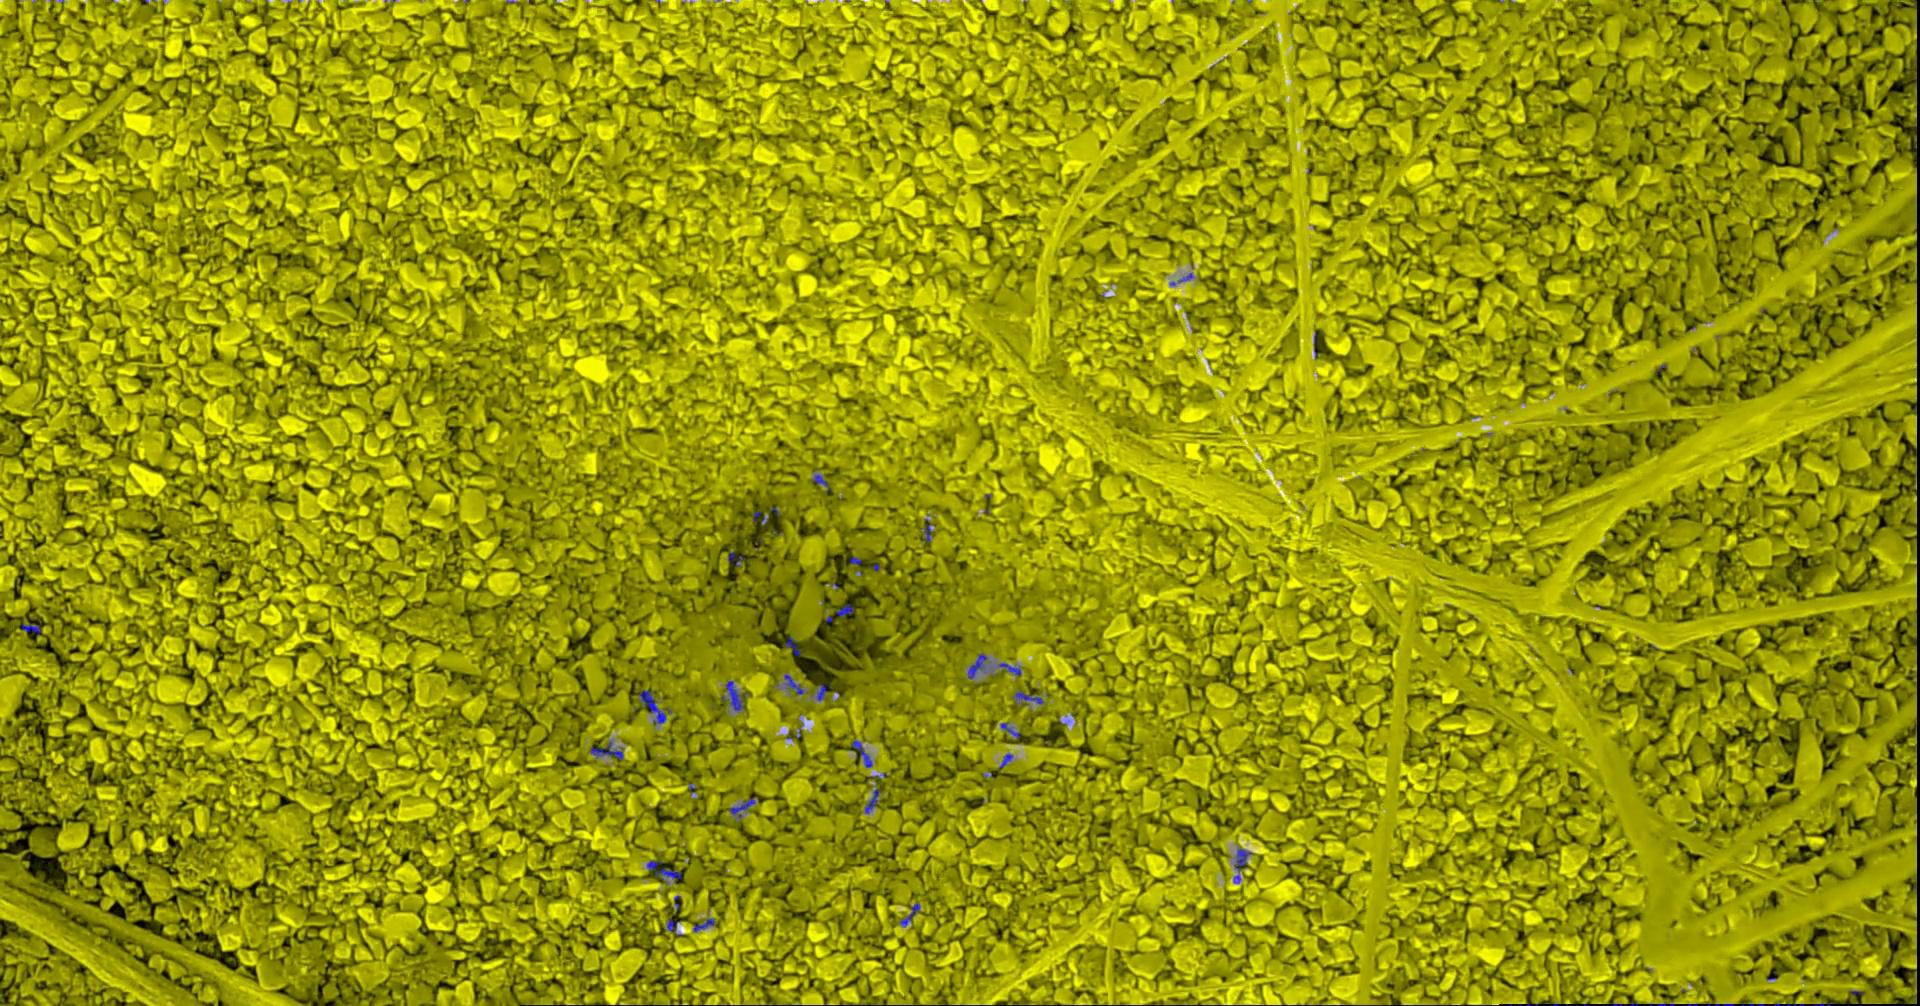ant: (637, 688, 670, 725), (646, 856, 681, 883), (720, 680, 745, 710), (589, 741, 623, 760), (1233, 848, 1252, 883), (851, 739, 872, 767), (729, 796, 756, 817), (899, 902, 919, 926), (968, 653, 987, 678), (863, 782, 879, 813), (1015, 690, 1043, 706), (783, 674, 803, 694), (811, 473, 829, 492), (999, 721, 1018, 739), (20, 619, 41, 634), (785, 636, 800, 655), (692, 918, 715, 931), (998, 662, 1020, 674), (728, 550, 742, 567), (817, 683, 830, 700), (836, 603, 853, 616), (923, 518, 932, 541)
